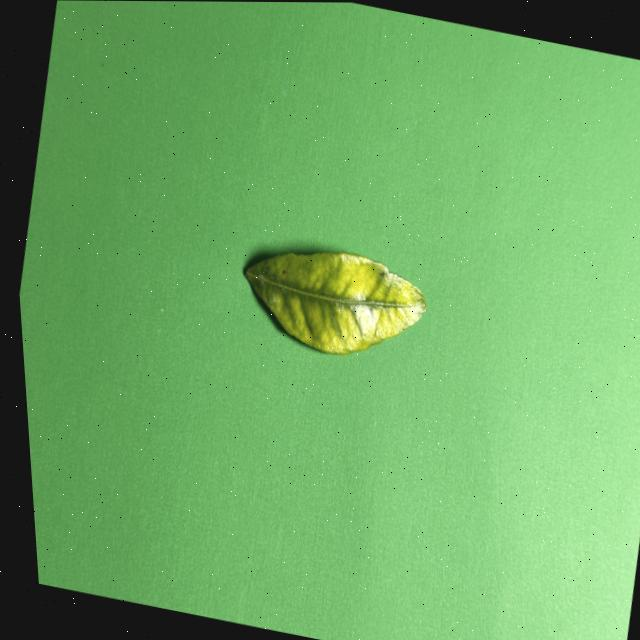greening: (245, 252, 425, 354)
